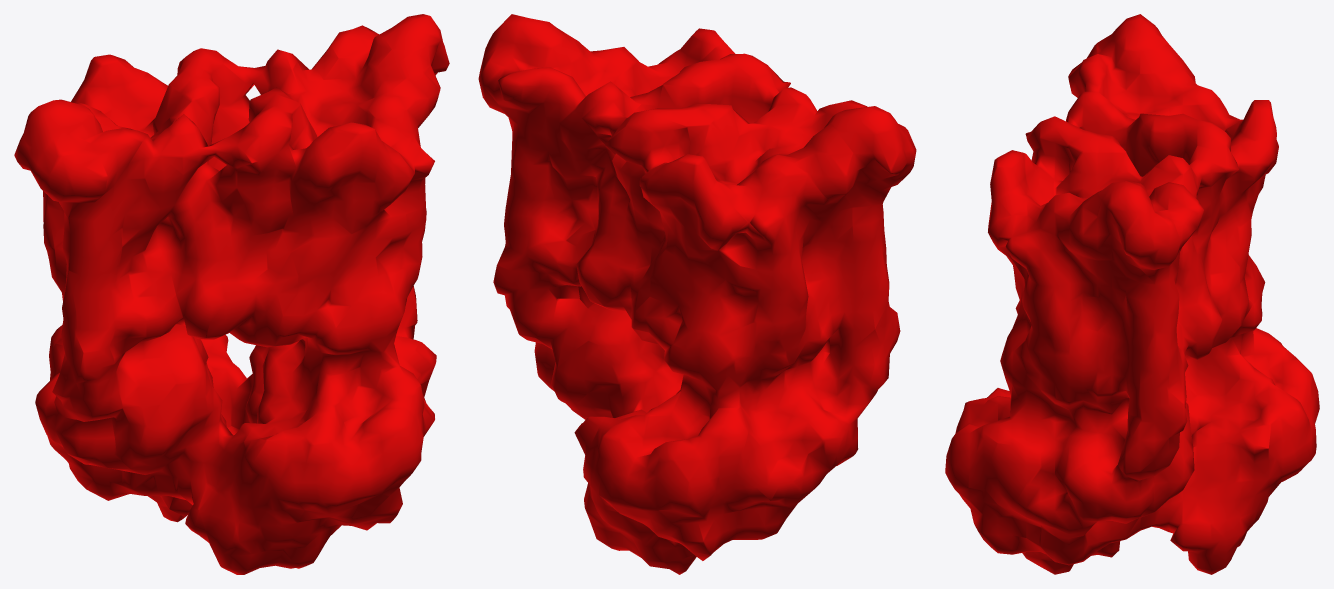
File: CoarseMS_1l7v.fbx
The picture shows the model from 3 angles, left to right: view 1: azimuth 30°, elevation 25°; view 2: azimuth 150°, elevation 25°; view 3: azimuth 270°, elevation 25°; orthographic projection. The views are drawn at different scales.
Parts seen in each view (by area): view 1: CoarseMS_1l7v; view 2: CoarseMS_1l7v; view 3: CoarseMS_1l7v.
Boxes of the visible parts, left/top/right/bottom form: CoarseMS_1l7v: left=14, top=14, right=449, bottom=574; CoarseMS_1l7v: left=478, top=14, right=916, bottom=574; CoarseMS_1l7v: left=945, top=14, right=1319, bottom=574.
Bounding box in the file's own units: 85.73 × 92.84 × 68.08.
